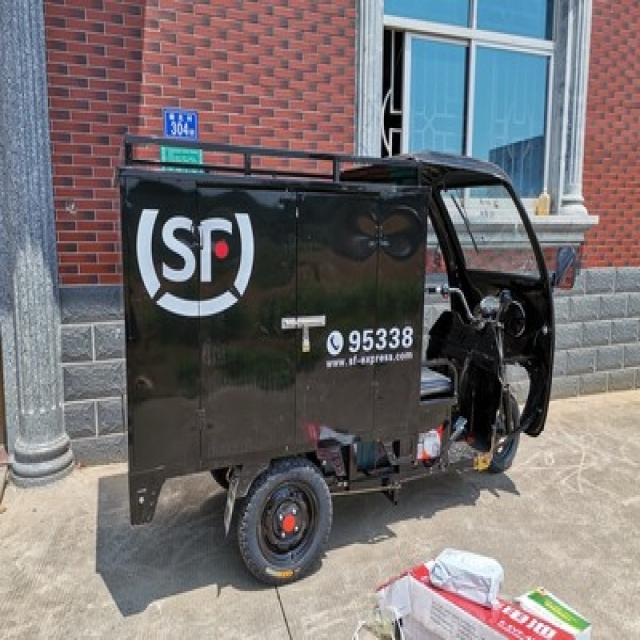tricycle: (115, 132, 576, 582)
